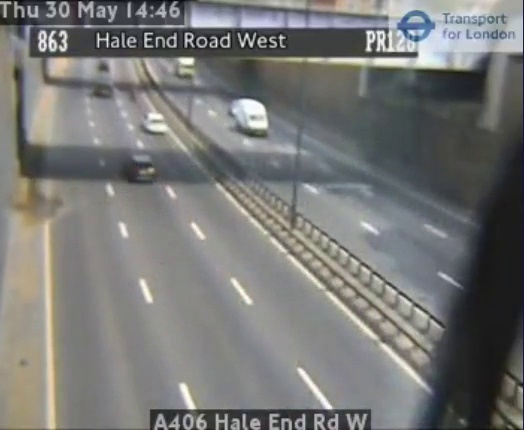car: (124, 154, 156, 182), (143, 113, 167, 133)
